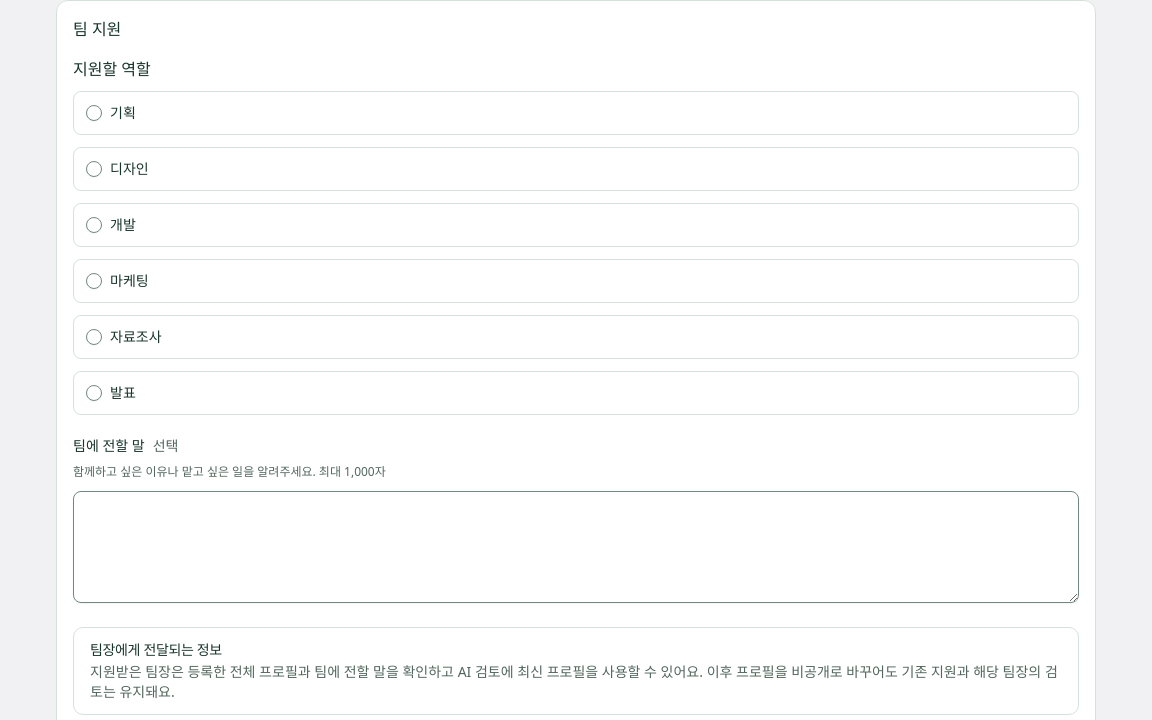
Scenario: workspace boundary regressions › permits a new application after a discarded application and no current membership
This screenshot has width=1152, height=720.
Step 1. Click the 2nd radio button named "디자인" → (94, 169), box [86, 161, 102, 177]
(page scrolled)
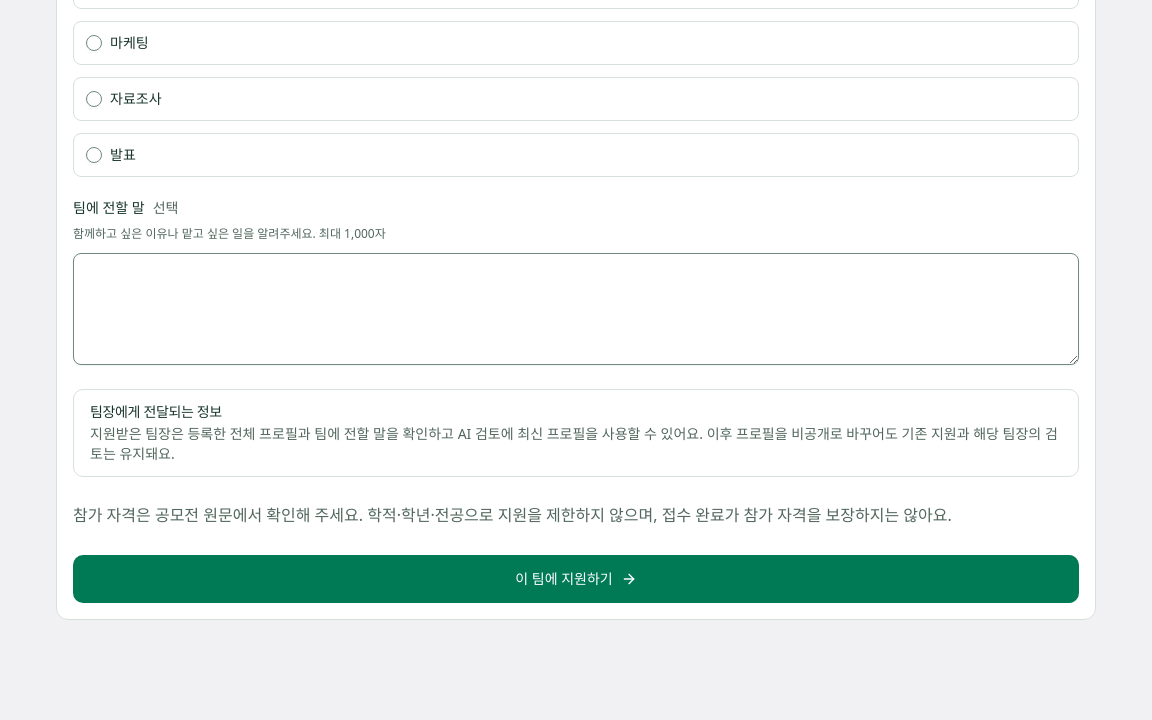
Step 2. Click the button "이 팀에 지원하기" → (576, 579), box [73, 555, 1079, 603]
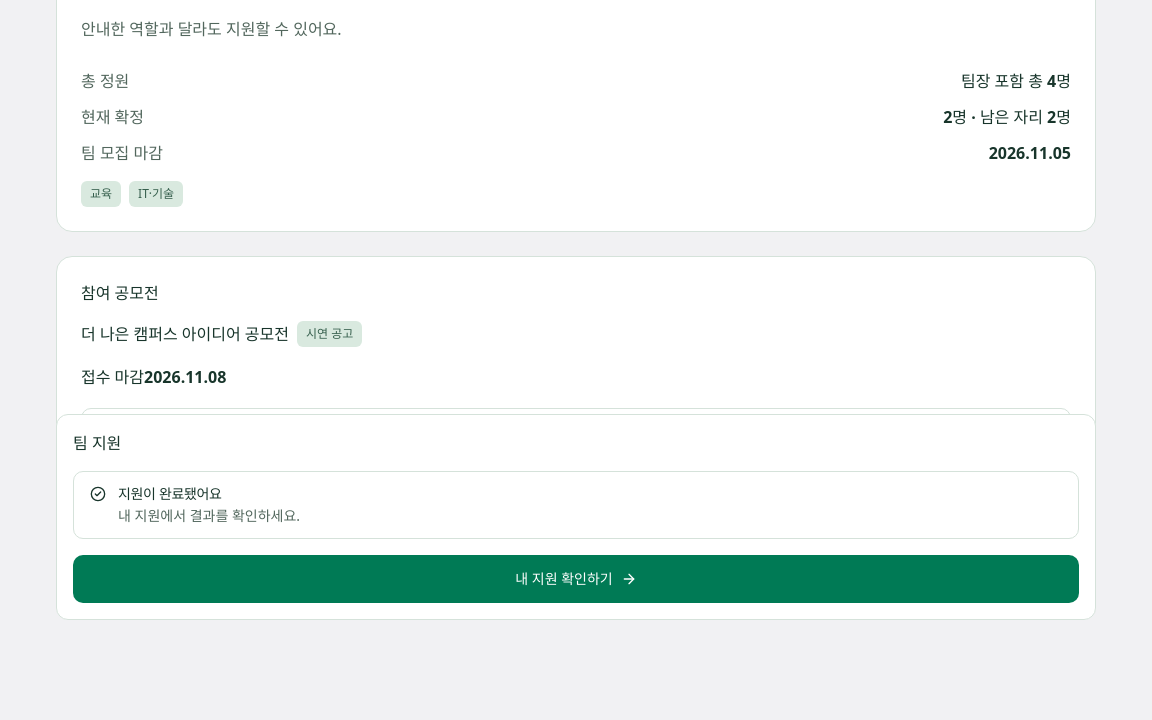
Result: the text "지원이 완료됐어요" is shown at [118, 484, 222, 503]
